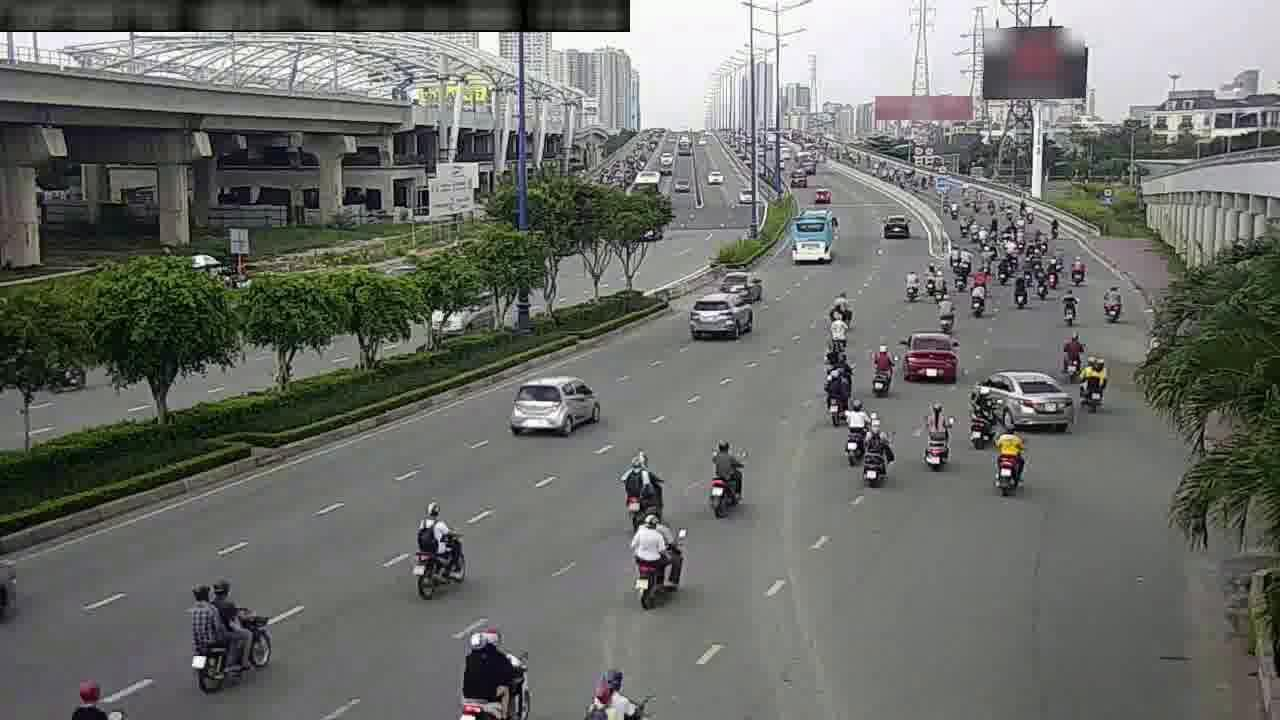14: (785, 206, 838, 262)
container: (503, 364, 603, 440), (972, 361, 1077, 432), (896, 327, 968, 384), (687, 285, 757, 343), (707, 263, 764, 303)
motorbike: (179, 572, 272, 693), (453, 618, 535, 713), (404, 499, 467, 592), (624, 508, 686, 601), (609, 452, 663, 531), (697, 437, 751, 514), (579, 663, 648, 720), (989, 420, 1034, 488), (913, 410, 956, 474), (961, 392, 1006, 453), (853, 425, 894, 485), (815, 368, 853, 422), (1074, 357, 1111, 410), (836, 408, 870, 461), (865, 346, 898, 397), (1054, 330, 1089, 377), (1096, 279, 1128, 326), (817, 311, 849, 356), (930, 292, 960, 334), (1051, 284, 1080, 325), (1002, 272, 1030, 314), (829, 293, 857, 333), (962, 276, 989, 316), (922, 265, 945, 299), (898, 266, 917, 303)
